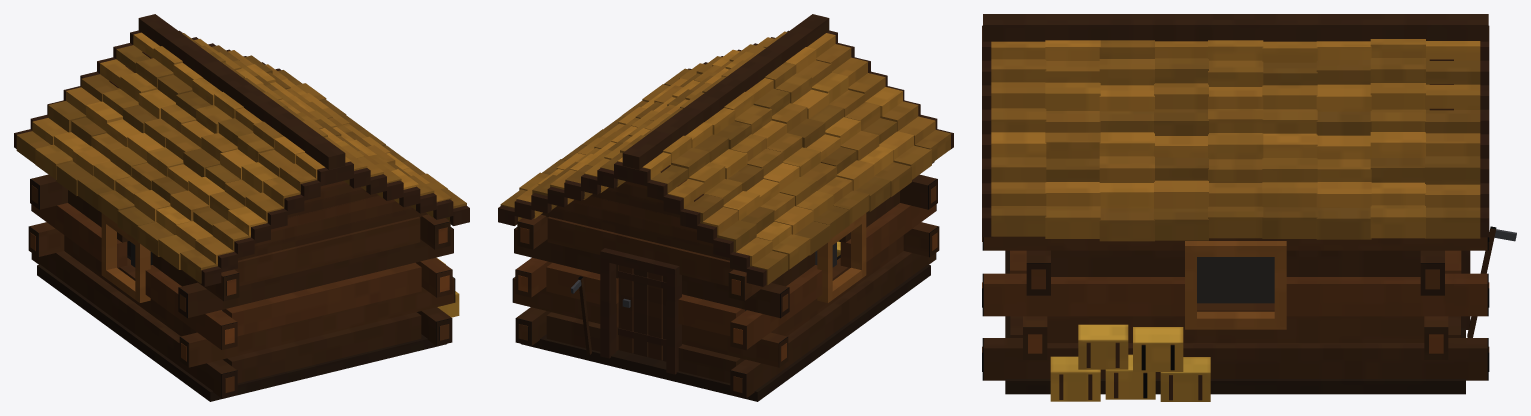
File: Farmstead.glb
3 views of the same model, side by side, from view 1: azimuth 30°, elevation 25°; view 2: azimuth 150°, elevation 25°; view 3: azimuth 270°, elevation 25° (orthographic). The views are drawn at different scales.
Parts seen in each view (by area): view 1: Farmstead; view 2: Farmstead, FarmsteadDoor; view 3: Farmstead, FarmsteadGlass.
Boxes of the visible parts, x1,y1,x2,y2 form: Farmstead: (14, 14, 469, 401); Farmstead: (498, 14, 953, 401); FarmsteadDoor: (618, 265, 666, 361); Farmstead: (982, 14, 1516, 401); FarmsteadGlass: (1197, 257, 1274, 303).
Size of the model in its own units: 5.41 by 4.07 by 6.62.
Materials: 3 (2 with a texture image).
